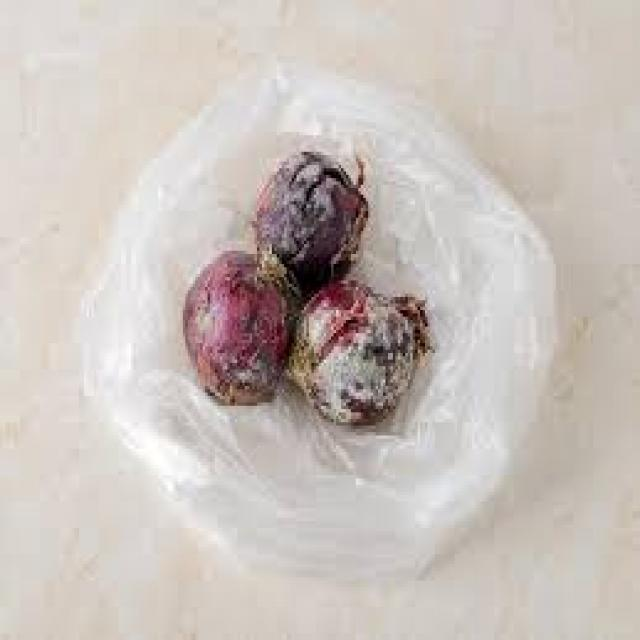organic waste: (286, 274, 428, 422), (180, 244, 299, 403), (250, 148, 368, 287)
